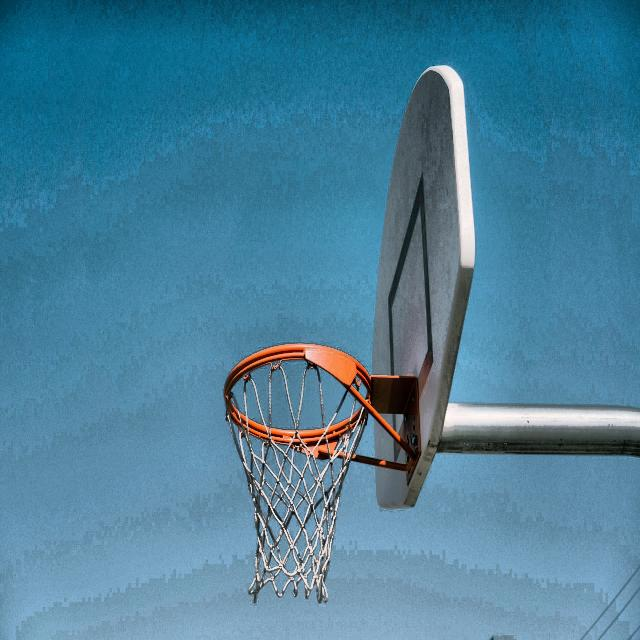rim: (224, 345, 370, 603)
